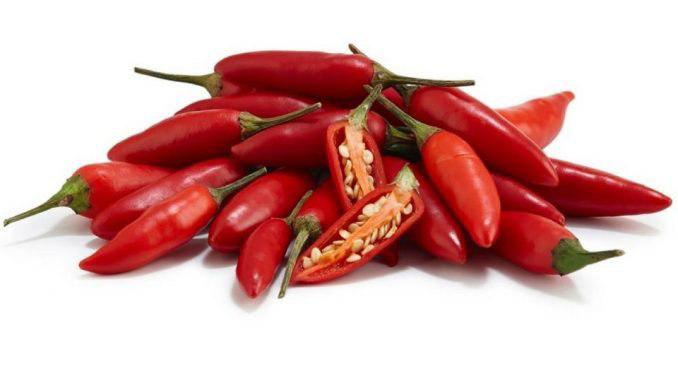lada merah: (414, 78, 567, 190), (80, 172, 232, 277), (293, 181, 430, 292), (414, 127, 497, 255), (216, 45, 406, 97), (114, 104, 258, 162), (490, 210, 597, 284), (213, 164, 315, 237), (323, 115, 401, 208), (234, 203, 297, 305)
